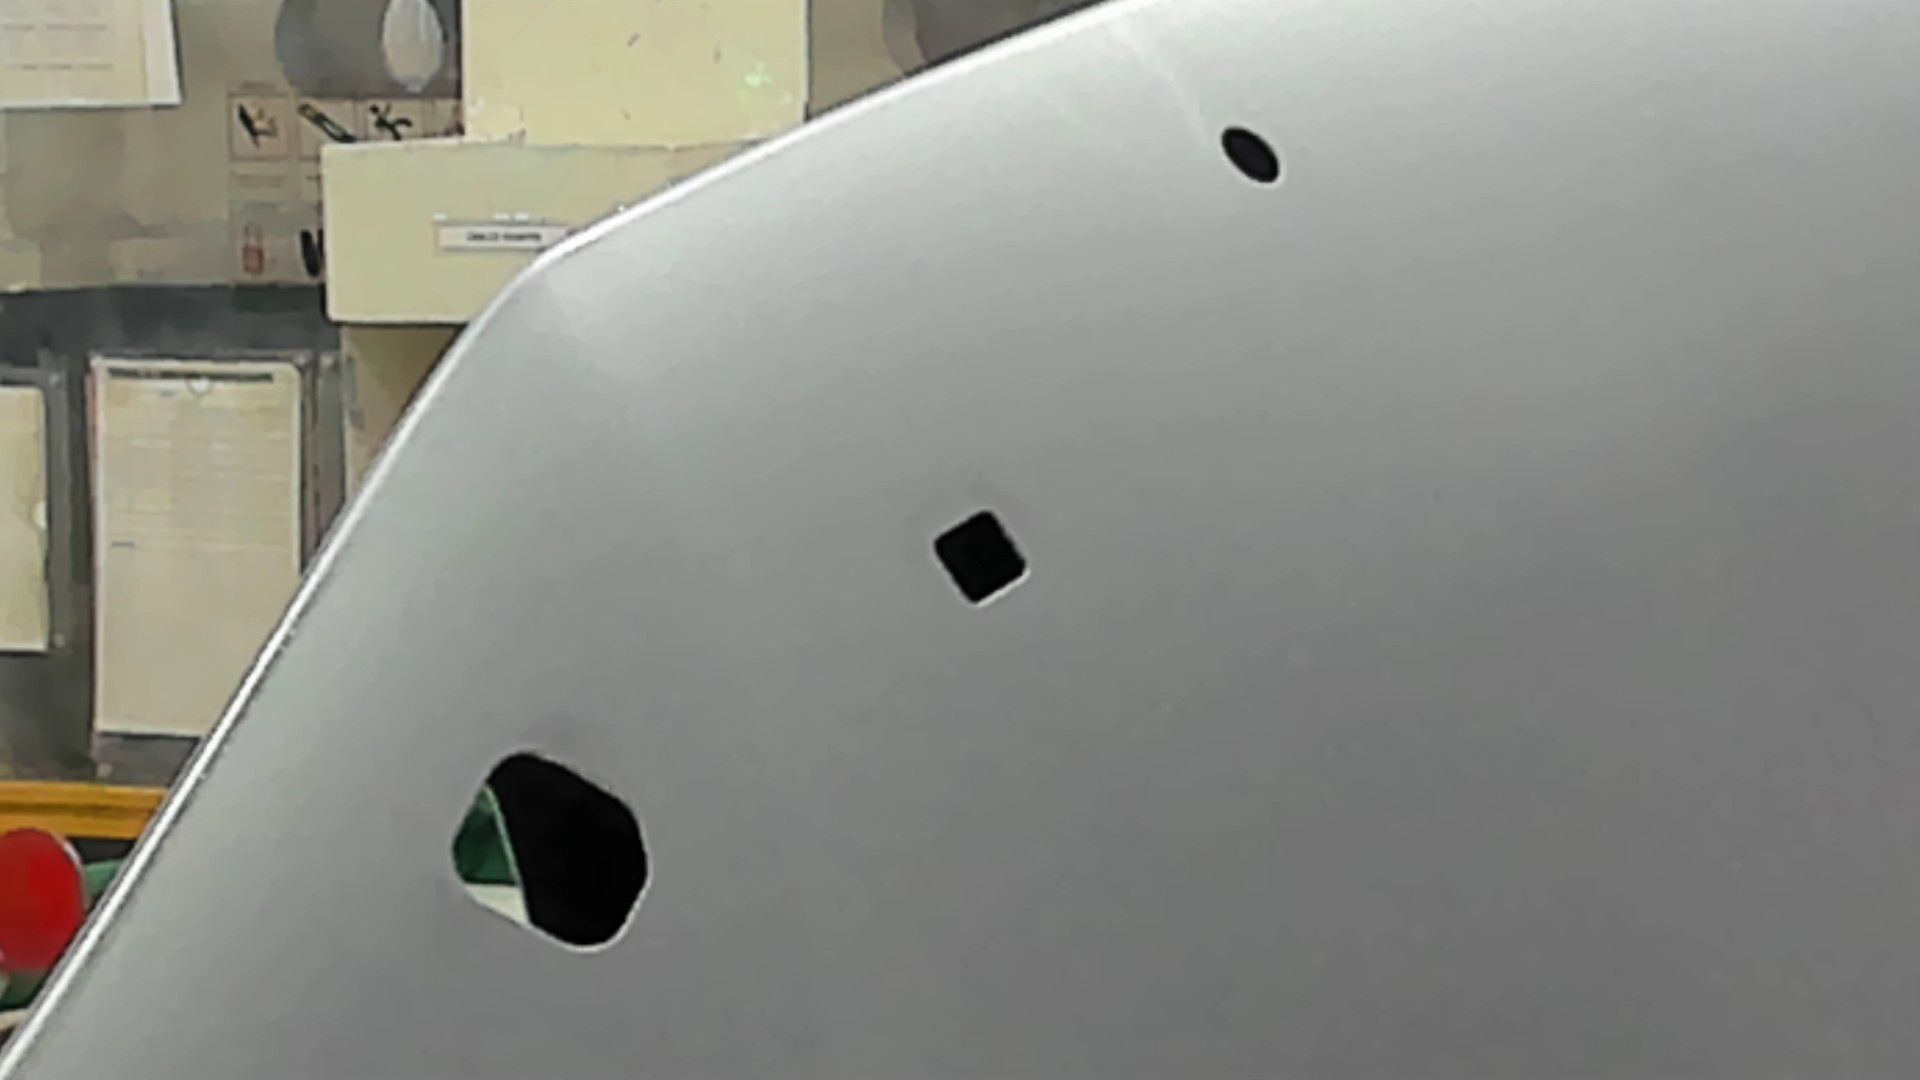chico: (1209, 120, 1296, 196)
grande: (436, 745, 683, 955)
mediano: (913, 502, 1051, 613)
